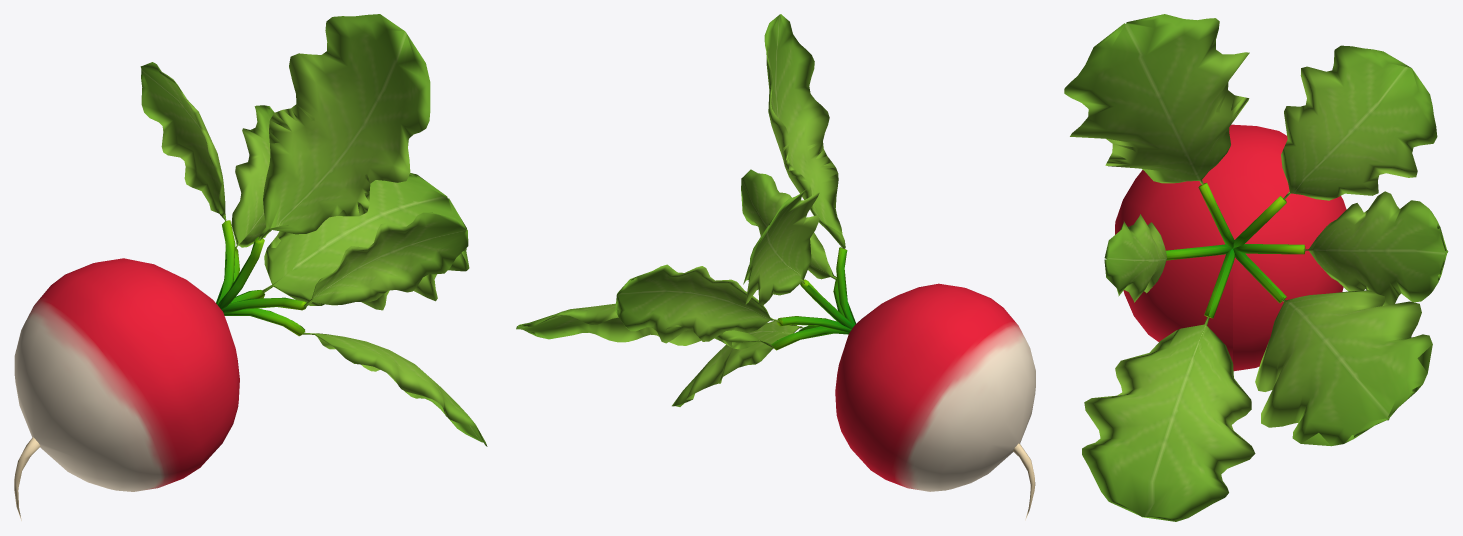
File: NP_Radish_Harvest_LOD1.fbx
3 renders of one model, left to right at view 1: azimuth 30°, elevation 25°; view 2: azimuth 150°, elevation 25°; view 3: azimuth 270°, elevation 25°, orthographic. The views are drawn at different scales.
Visible parts, largest first — view 1: NP_Radish_Harvest; view 2: NP_Radish_Harvest; view 3: NP_Radish_Harvest.
Part boxes in pixels (bbox=[...]): NP_Radish_Harvest: bbox=[14, 14, 487, 520]; NP_Radish_Harvest: bbox=[516, 14, 1035, 520]; NP_Radish_Harvest: bbox=[1064, 14, 1448, 521].
Size of the model in its own units: 89.45 by 76.31 by 56.47.
